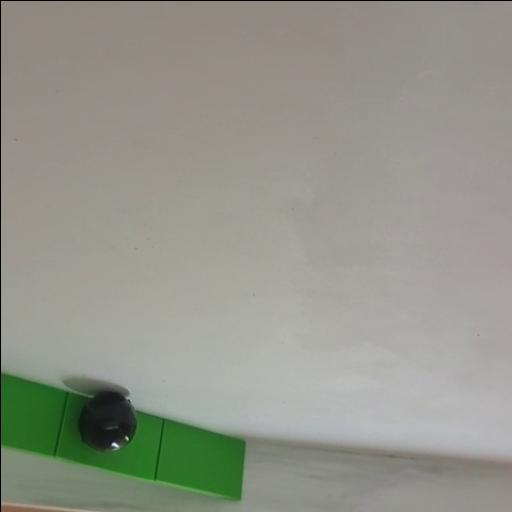dead: (74, 388, 139, 454)
